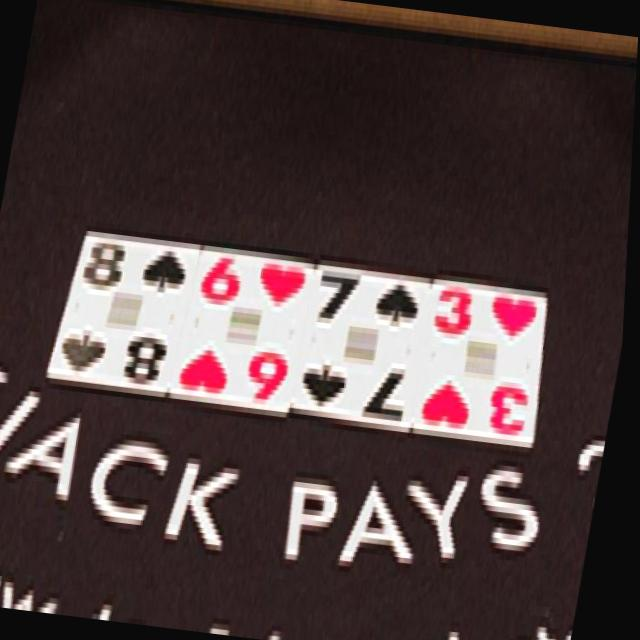Card-3: (414, 281, 550, 440)
Card-6: (174, 245, 317, 407)
Card-7: (295, 269, 434, 427)
Card-8: (50, 233, 202, 395)
